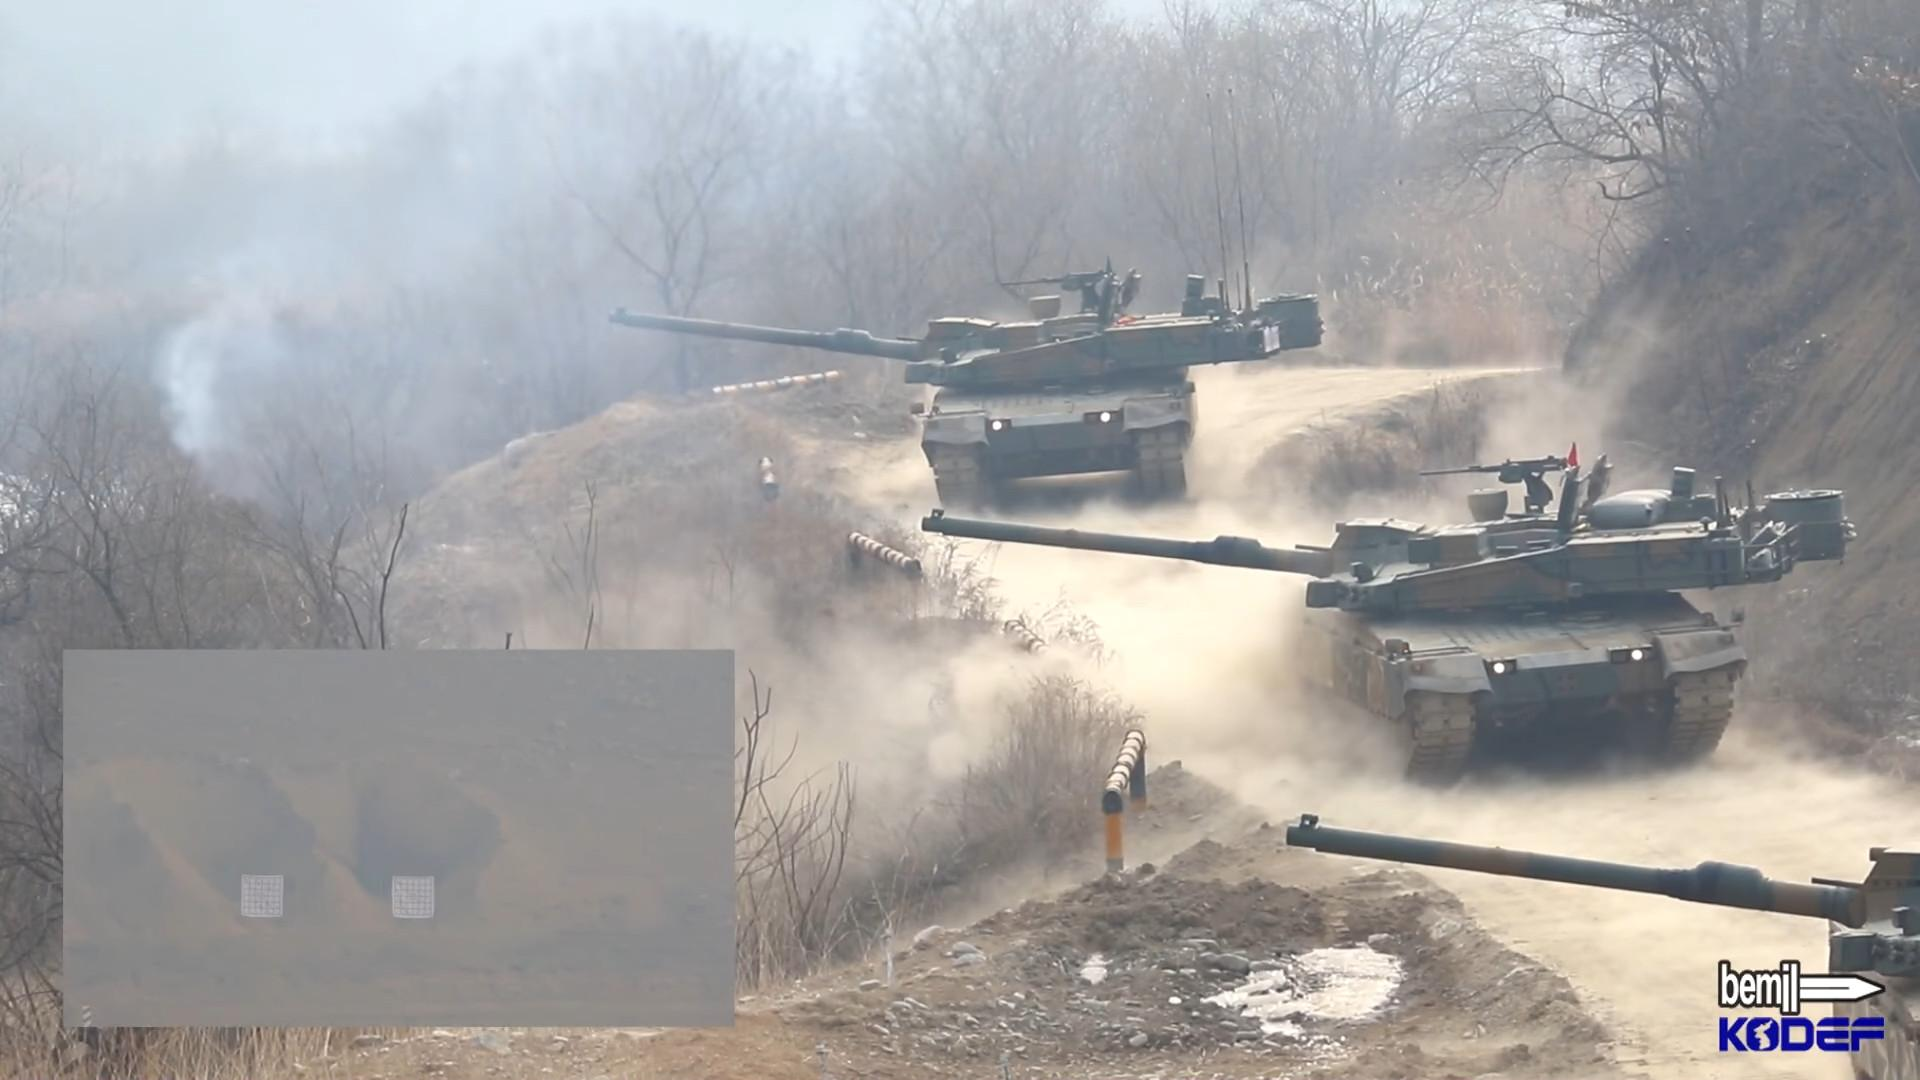tank: (922, 454, 1857, 789), (609, 269, 1323, 513), (1287, 814, 1919, 1079)
